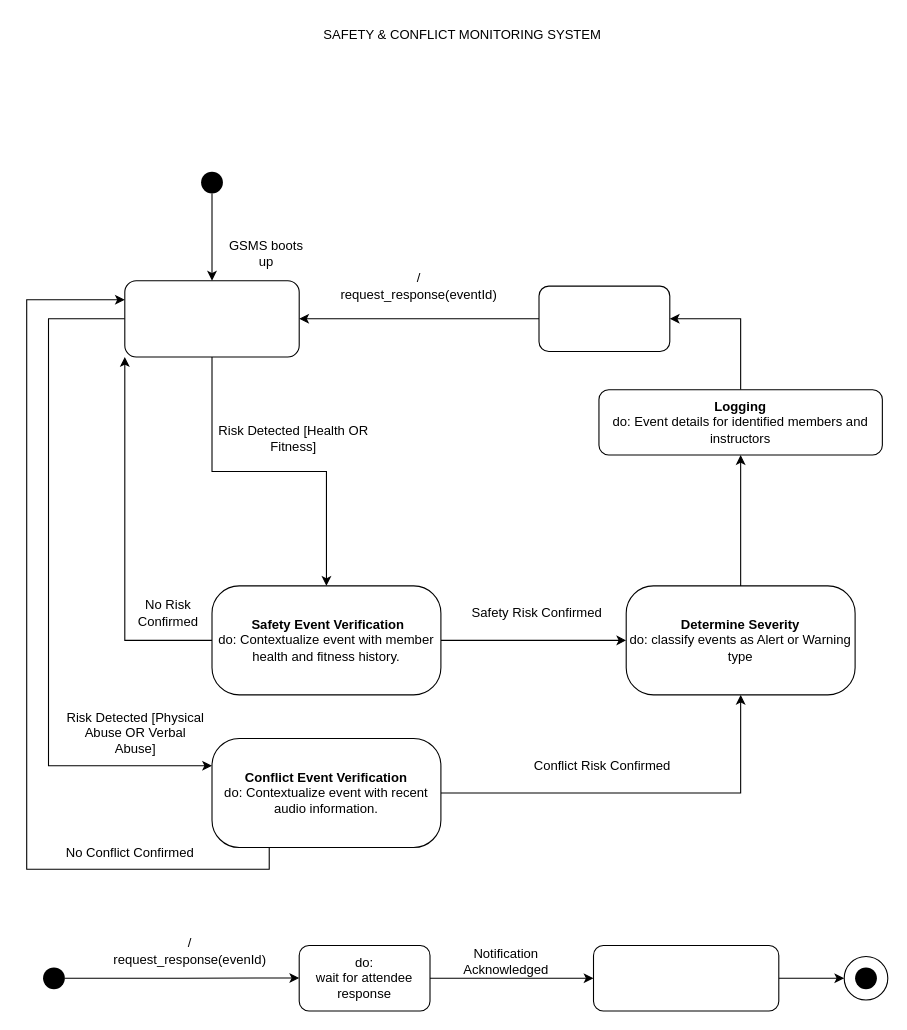
Image size: 907x1030. Some labels were removed from this diagram. Each missing label, with the centre of its shape:
Monitoring do: analyze camera feed data and member wearable in class: the point at 211,318
Notifying do: Notify instructor and affected members: the point at 604,318
Update Event Log do: update log of safety event as resolved: the point at 685,977
